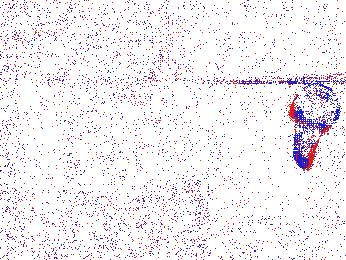flame jellyfish: (292, 83, 341, 170), (49, 184, 95, 232), (87, 185, 134, 230)
